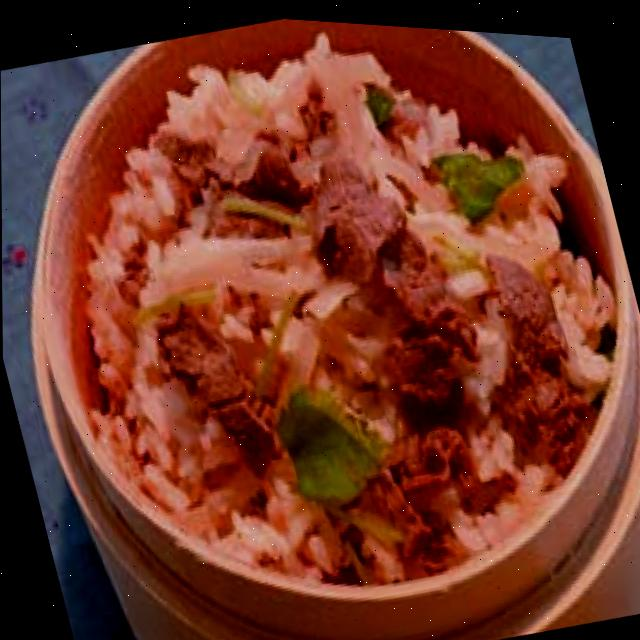米饭主食: (0, 5, 630, 629)
